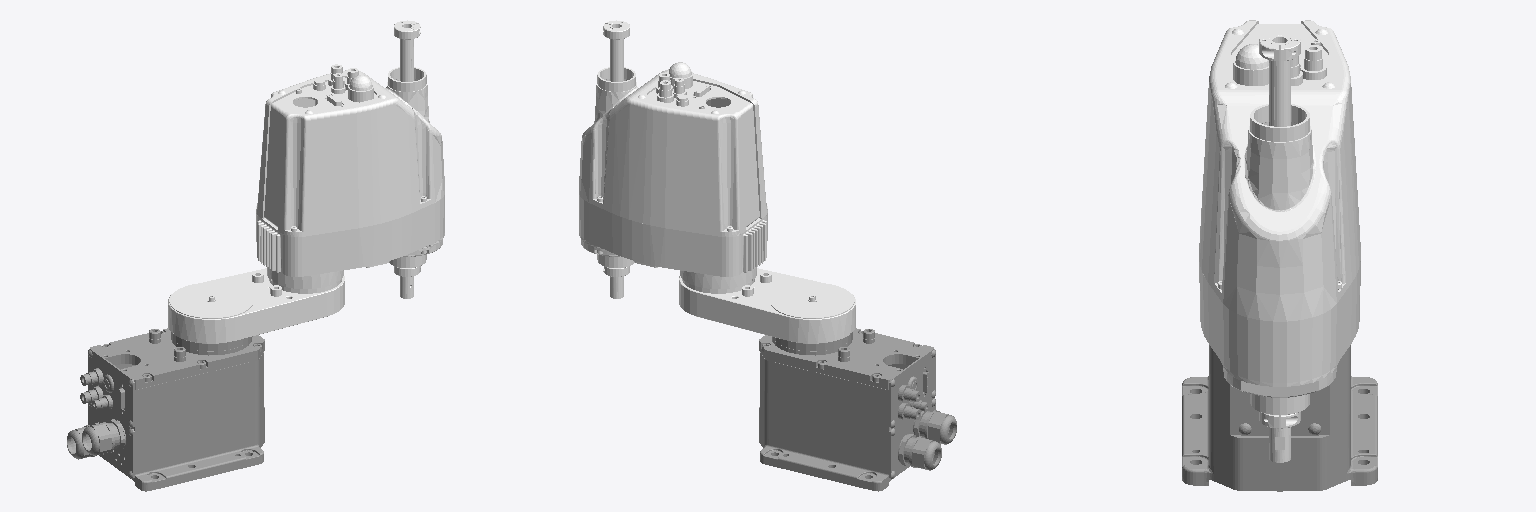
The robot description file, URDF, robot "scara":
<?xml version="1.0"?>

<robot name="scara">

  <material name="white">
    <color rgba="255 255 255 1"/>
  </material>

  <material name="grey">
    <color rgba="132 132 132 1"/>
  </material>

  <link name="base_link">
    <visual>
        <origin xyz="0 0 0" rpy="1.5707 0 -1.5707" />
        <geometry>
          <mesh filename="package://epson_g3_description/meshes/base_yellow.dae" />
        </geometry>
        <material name="LightGrey">
          <color rgba="0.7 0.7 0.7 1.0"/>
        </material>
    </visual>
    <collision>
      <origin xyz="0 0 0" rpy="1.5707 0 -1.5707" />
      <geometry>
        <mesh filename="package://epson_g3_description/meshes/base.dae"/>
      </geometry>
    </collision>
    <inertial>
      <origin xyz="0 0 0" rpy="1.5707 0 -1.5707" />
      <mass value="2"/>
      <inertia ixx="0.001" ixy="0.0" ixz="0.0" iyy="0.001" iyz="0.0" izz="0.001"/>
    </inertial>
  </link>

  <link name="link_1">
    <visual>
      <origin xyz="0 0 -0.129" rpy="1.5707 0 -1.5707" />
          <geometry>
            <mesh filename="package://epson_g3_description/meshes/link1_yellow.dae" />
          </geometry>
          <material name="white"/>
    </visual>
    <collision>
      <origin xyz="0 0 -0.129" rpy="1.5707 0 -1.5707" />
      <geometry>
        <mesh filename="package://epson_g3_description/meshes/link1.dae"/>
      </geometry>
    </collision>
    <inertial>
      <origin xyz="0 0 -0.129" rpy="1.5707 0 -1.5707" />
      <mass value="0.5"/>
      <inertia ixx="0.001" ixy="0.0" ixz="0.0" iyy="0.001" iyz="0.0" izz="0.001"/>
    </inertial>
  </link>

  <link name="link_2">
    <visual>
      <origin xyz="-0.120 0 -0.129" rpy="1.5707 0 -1.5707" />
          <geometry>
            <mesh filename="package://epson_g3_description/meshes/link2_yellow.dae" />
          </geometry>
          <material name="white"/>
    </visual>
    <collision>
      <origin xyz="-0.120 0 -0.129" rpy="1.5707 0 -1.5707" />
      <geometry>
        <mesh filename="package://epson_g3_description/meshes/link2.dae"/>
      </geometry>
    </collision>
    <inertial>
      <origin xyz="-0.120 0 -0.129" rpy="1.5707 0 -1.5707" />
      <mass value="0.5"/>
      <inertia ixx="0.001" ixy="0.0" ixz="0.0" iyy="0.001" iyz="0.0" izz="0.001"/>
    </inertial>
  </link>

  <link name="link_3">
    <visual>
      <origin xyz="-0.250 0 -0.129" rpy="1.5707 0 -1.5707" />
          <geometry>
            <mesh filename="package://epson_g3_description/meshes/link3_yellow.dae" />
          </geometry>
       <material name="grey"/>
    </visual>
    <collision>
      <origin xyz="-0.250 0 -0.129" rpy="1.5707 0 -1.5707" />
      <geometry>
        <mesh filename="package://epson_g3_description/meshes/link3.dae"/>
      </geometry>
    </collision>
    <inertial>
      <origin xyz="-0.250 0 -0.129" rpy="1.5707 0 -1.5707" />
      <mass value="0.3"/>
      <inertia ixx="0.001" ixy="0.0" ixz="0.0" iyy="0.001" iyz="0.0" izz="0.001"/>
    </inertial>
  </link>

  <joint name="link1_to_base" type="revolute">
    <parent link="base_link"/>
    <child link="link_1"/>
    <origin xyz="0 0 0.129"/>
    <axis xyz="0 0 1" />
    <limit effort="1000" velocity="1" lower="-3.14" upper="3.14"/>
  </joint>

  <joint name="link2_to_link1" type="revolute">
    <parent link="link_1"/>
    <child link="link_2"/>
    <origin xyz="0.120 0 0"/>
    <axis xyz="0 0 1" />
    <limit effort="1000" velocity="1" lower="-3.14" upper="3.14"/>
  </joint>


  <joint name="link3_to_link2" type="revolute">
    <parent link="link_2"/>
    <child link="link_3"/>
    <origin xyz="0.130 0 0"/>
    <axis xyz="0 0 1" />
    <limit effort="1000" velocity="1" lower="-3.14" upper="3.14"/>
  </joint>


  <transmission name="link1_to_base_trans">
      <type>transmission_interface/SimpleTransmission</type>
      <joint name="link1_to_base">
        <hardwareInterface>hardware_interface/PositionJointInterface</hardwareInterface>
      </joint>
      <actuator name="link1_to_base_motor">
        <mechanicalReduction>1</mechanicalReduction>
      </actuator>
    </transmission>

  <transmission name="link2_to_link1_trans">
      <type>transmission_interface/SimpleTransmission</type>
      <joint name="link2_to_link1">
        <hardwareInterface>hardware_interface/PositionJointInterface</hardwareInterface>
      </joint>
      <actuator name="link2_to_link1_motor">
        <mechanicalReduction>1</mechanicalReduction>
      </actuator>
    </transmission>


  <transmission name="link3_to_link2_trans">
      <type>transmission_interface/SimpleTransmission</type>
      <joint name="link3_to_link2">
        <hardwareInterface>hardware_interface/PositionJointInterface</hardwareInterface>
      </joint>
      <actuator name="link3_to_link2_motor">
        <mechanicalReduction>1</mechanicalReduction>
      </actuator>
    </transmission>


  <gazebo>
    <plugin name="gazebo_ros_control" filename="libgazebo_ros_control.so">
      <robotNamespace>/</robotNamespace>
    </plugin>
  </gazebo>


  <!-- Used for fixing robot to Gazebo 'base_link' -->
  <link name="world"/>
  <joint name="fixed" type="fixed">
    <parent link="world"/>
    <child link="base_link"/>
  </joint>


</robot>

--- Facts derived from the render (not from the file) ---
The picture shows the robot from 3 angles, left to right: view 1: azimuth 30°, elevation 25°; view 2: azimuth 150°, elevation 25°; view 3: azimuth 270°, elevation 25°; orthographic projection.
Model scara with 5 links and 4 joints (3 revolute, 1 fixed), rooted at world, posed every joint at zero.
Visible links, largest first — view 1: link_2, base_link, link_1, link_3; view 2: link_2, base_link, link_1, link_3; view 3: link_2, base_link, link_3.
Boxes of the visible links, x1,y1,x2,y2 form: link_2: [256, 64, 444, 293]; base_link: [67, 328, 264, 491]; link_1: [168, 268, 344, 343]; link_3: [394, 20, 420, 298]; link_2: [579, 62, 767, 293]; base_link: [759, 328, 956, 491]; link_1: [679, 268, 855, 343]; link_3: [603, 20, 629, 298]; link_2: [1199, 20, 1360, 414]; base_link: [1182, 345, 1377, 491]; link_3: [1259, 32, 1300, 462].
Bounding box of the posed robot: 0.4612 × 0.14 × 0.454 m (x, y, z).
4 mesh visuals loaded from 4 distinct referenced files (4 Collada DAE).